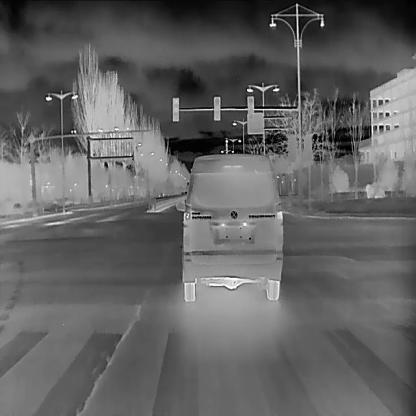car: (174, 149, 289, 301)
